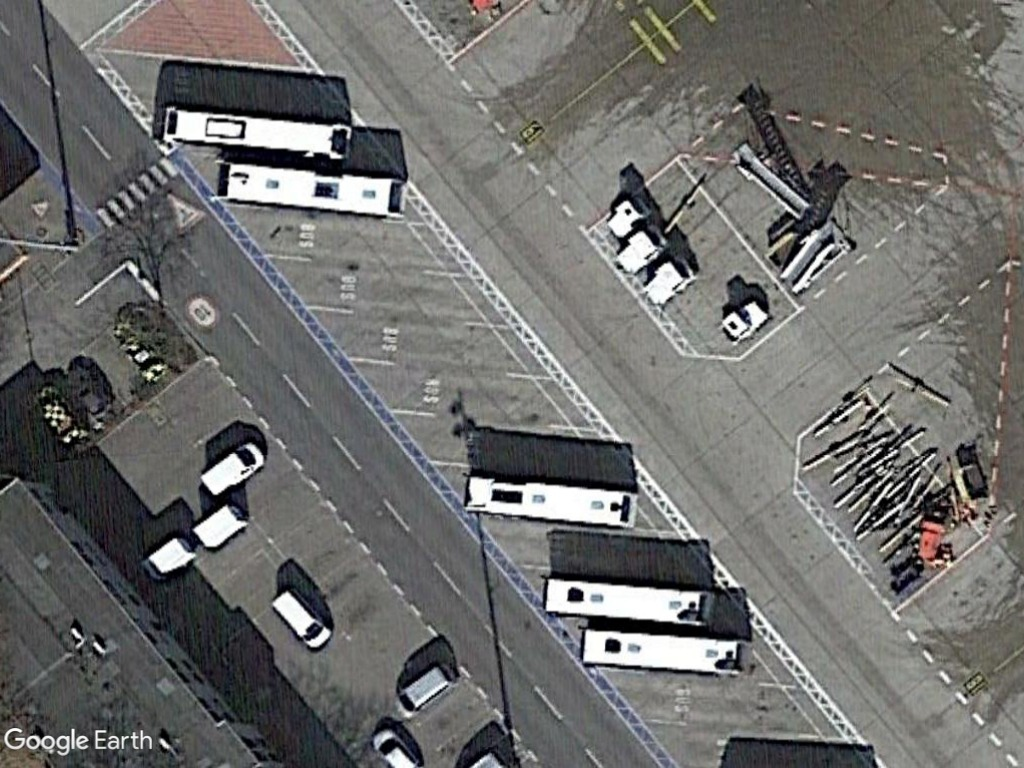bus: (210, 153, 419, 224), (152, 102, 360, 164), (457, 469, 640, 530), (536, 570, 721, 629), (576, 624, 751, 674)
stairtruck: (727, 137, 812, 222)
van: (266, 583, 338, 656), (195, 437, 267, 501), (392, 664, 461, 720), (368, 720, 425, 768)
